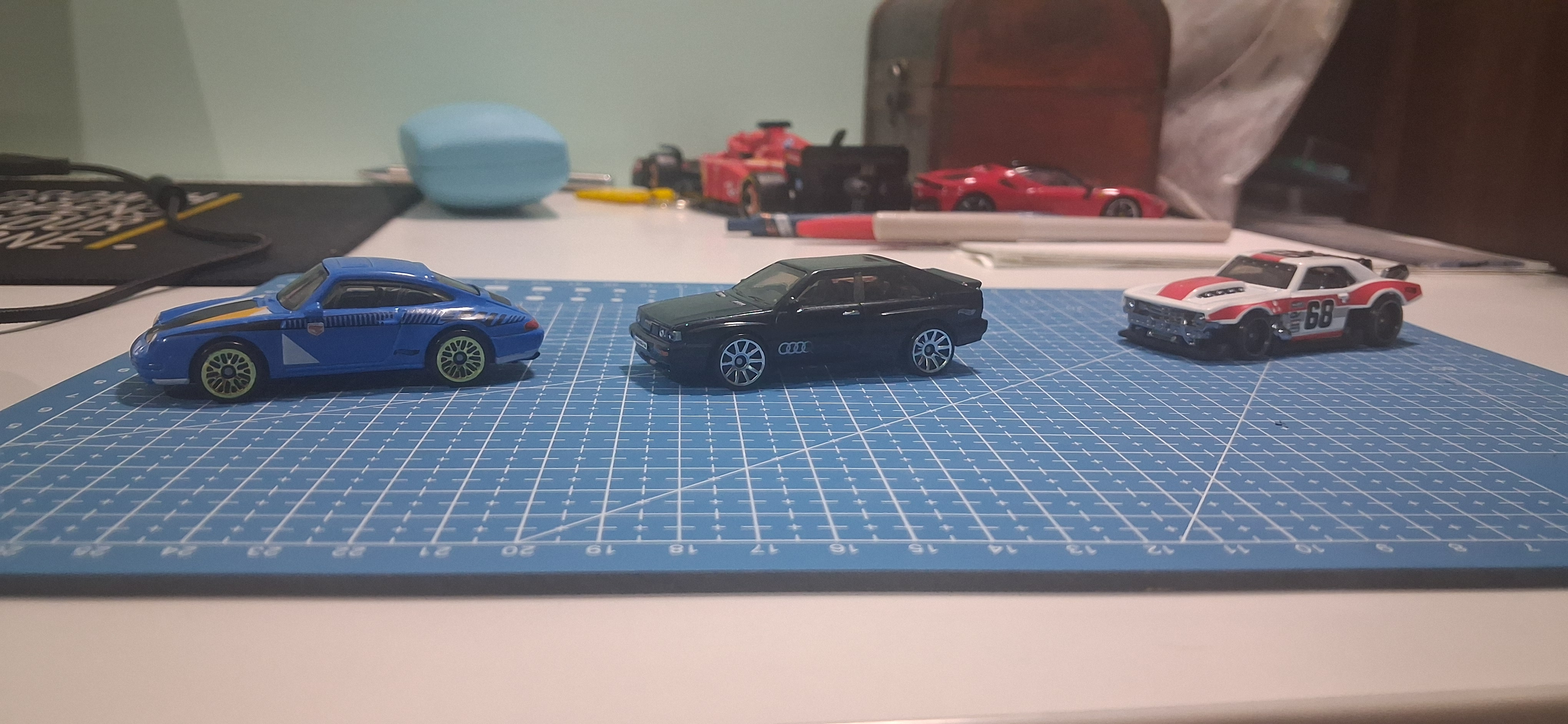Audi_Quattro: (591, 236, 1000, 420)
Camaro: (1083, 223, 1433, 392)
Porsche_Carrera: (78, 252, 561, 409)
